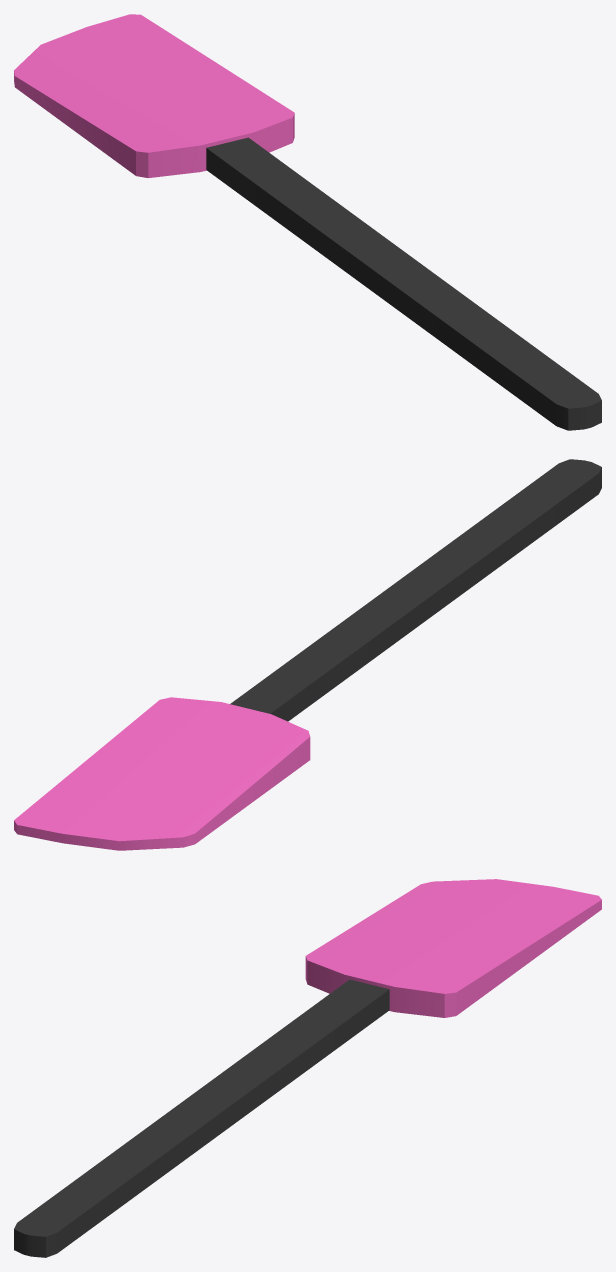
File: Rubber_Spatula_09.FBX
The picture shows the model from 3 angles, top to bottom: view 1: azimuth 30°, elevation 25°; view 2: azimuth 150°, elevation 25°; view 3: azimuth 330°, elevation 25°; orthographic projection. The views are drawn at different scales.
Visible parts, largest first — view 1: Rubber_Spatula; view 2: Rubber_Spatula; view 3: Rubber_Spatula.
Boxes of the visible parts, left/top/right/bottom form: Rubber_Spatula: left=14, top=14, right=601, bottom=430; Rubber_Spatula: left=14, top=459, right=601, bottom=850; Rubber_Spatula: left=14, top=879, right=601, bottom=1257.
Bounding box in the file's own units: 15 × 2.41 × 86.77.
